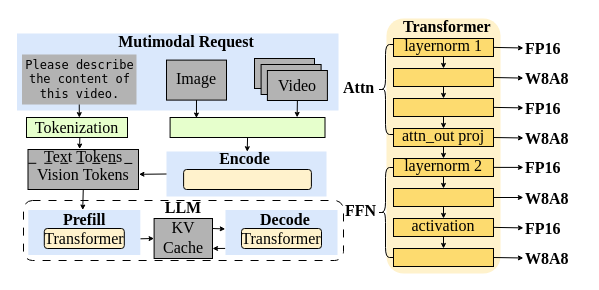
This 599x290 diagram has some shape labels left out. Here are the shapes that lost their labels. From the top down, the box of each, then its label:
(392, 68, 494, 86): Q K V proj
(169, 116, 325, 138): Patch Embed
(392, 98, 494, 116): full/causal attn
(183, 168, 311, 190): Vision Transformer
(392, 188, 494, 206): up/gate proj
(392, 248, 494, 266): down proj
